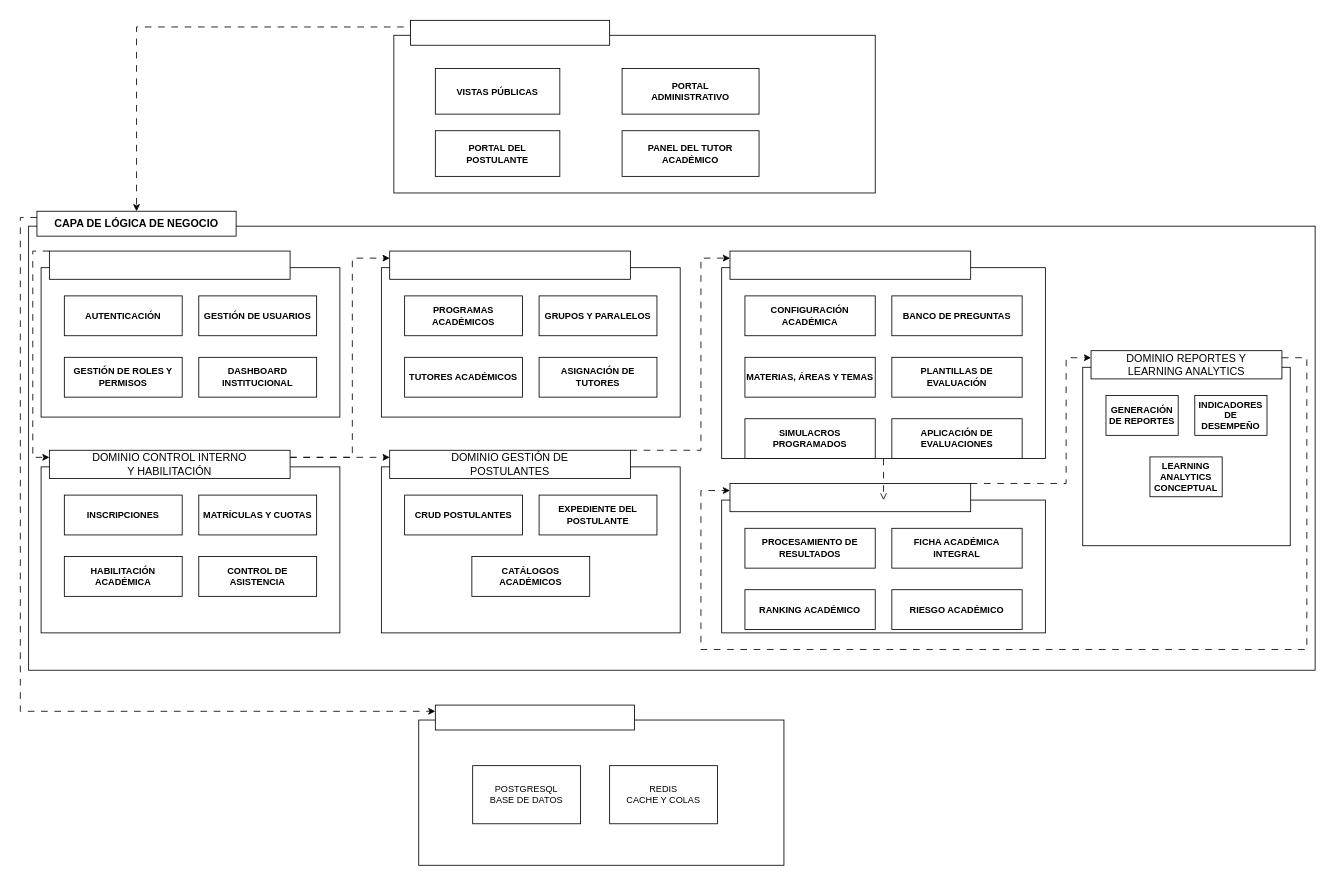
Some shapes in this 1330 by 880 pixel diagram are drawn without their labels. The shapes that lost their labels are listed below. From the top down, each one's centre as x and y in pixels, then its label:
(x=510, y=32): CAPA DE PRESENTACIÓN
(x=169, y=264): DOMINIO SEGURIDAD Y ADMINISTRACIÓN
(x=509, y=264): DOMINIO GESTIÓN INSTITUCIONAL
(x=850, y=264): DOMINIO CORE EVALUATIVO
(x=850, y=497): DOMINIO RESULTADOS Y SEGUIMIENTO
(x=535, y=717): CAPA DE PERSISTENCIA Y SOPORTE
